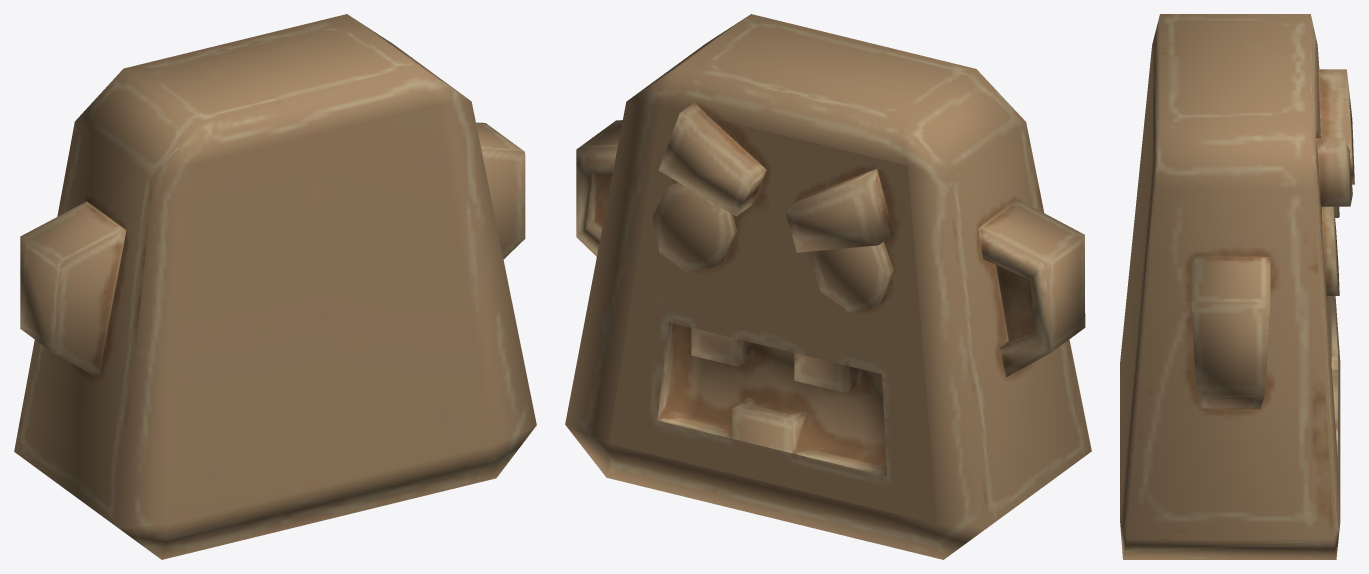
Rendered from stoneHead1.fbx.
3 renders of one model, left to right at view 1: azimuth 30°, elevation 25°; view 2: azimuth 150°, elevation 25°; view 3: azimuth 270°, elevation 25°, orthographic.
Visible parts, largest first — view 1: stoneHead1; view 2: stoneHead1; view 3: stoneHead1.
Part boxes in pixels (x1,y1,x2,y2): stoneHead1: (14, 14, 536, 559); stoneHead1: (565, 14, 1091, 559); stoneHead1: (1120, 14, 1354, 559).
Size of the model in its own units: 1.06 by 0.8768 by 0.4555.
Materials: 1 (1 with a texture image).
